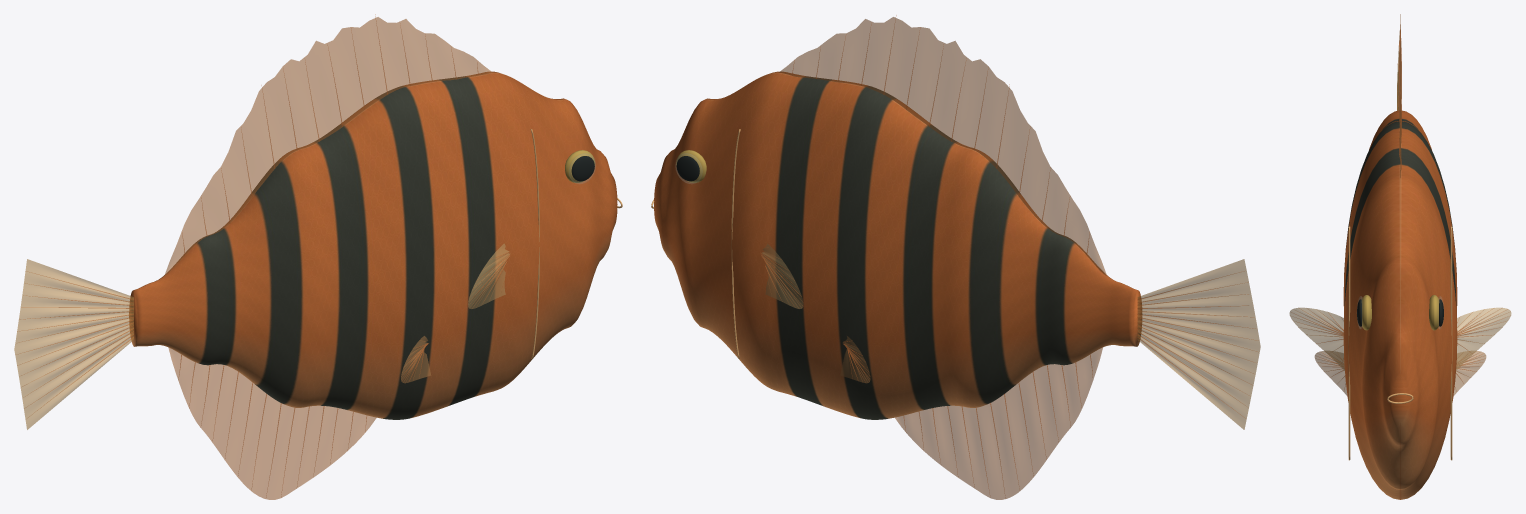
The model's file is flame-desktop.glb.
3 renders of one model, left to right at view 1: azimuth 30°, elevation 25°; view 2: azimuth 150°, elevation 25°; view 3: azimuth 270°, elevation 25°, orthographic.
Visible parts, largest first — view 1: skin, dorsal, anal, tail, dorsal-ray, pectoral-left, pelvic-left; view 2: skin, dorsal, anal, tail, dorsal-ray, pectoral-left, pelvic-left; view 3: skin, pectoral-left, pelvic-left, operculum, dorsal-ray, eye-iris--1, dorsal.
Part boxes in pixels (left/top/right/bottom): skin: left=129, top=71, right=617, bottom=419; dorsal: left=164, top=17, right=492, bottom=275; anal: left=168, top=347, right=376, bottom=499; tail: left=14, top=259, right=133, bottom=429; dorsal-ray: left=17, top=14, right=510, bottom=497; pectoral-left: left=468, top=243, right=509, bottom=308; pelvic-left: left=401, top=336, right=430, bottom=383; skin: left=654, top=71, right=1141, bottom=419; dorsal: left=778, top=17, right=1106, bottom=275; anal: left=895, top=347, right=1102, bottom=499; tail: left=1137, top=259, right=1260, bottom=429; dorsal-ray: left=760, top=15, right=1256, bottom=493; pectoral-left: left=761, top=243, right=803, bottom=308; pelvic-left: left=840, top=336, right=870, bottom=383; skin: left=1343, top=110, right=1457, bottom=499; pectoral-left: left=1289, top=307, right=1511, bottom=370; pelvic-left: left=1314, top=351, right=1486, bottom=396; operculum: left=1348, top=226, right=1452, bottom=460; dorsal-ray: left=1291, top=29, right=1507, bottom=389; eye-iris--1: left=1361, top=295, right=1439, bottom=330; dorsal: left=1399, top=14, right=1401, bottom=177.
Size of the model in its own units: 0.5972 by 0.436 by 0.1875.
11 materials, 1 textured.
